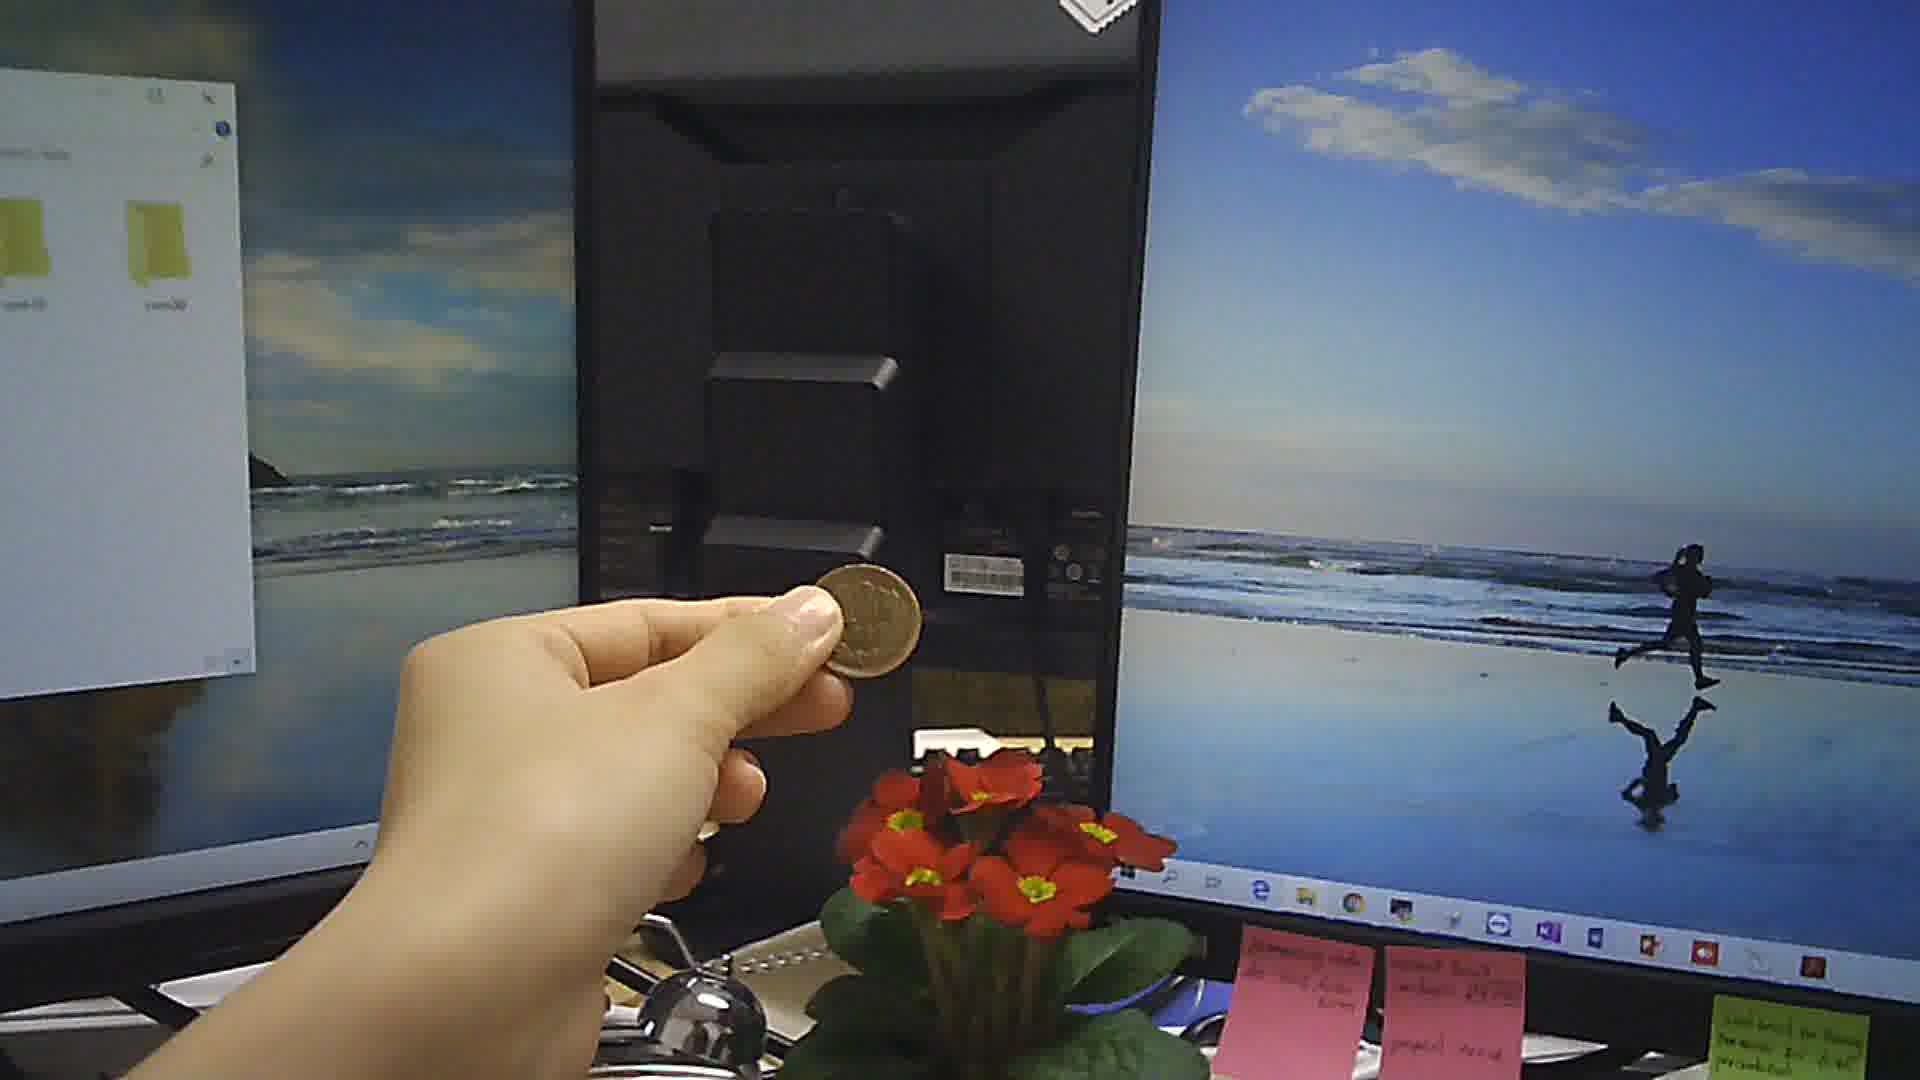10 Yen: (802, 562, 923, 679)
